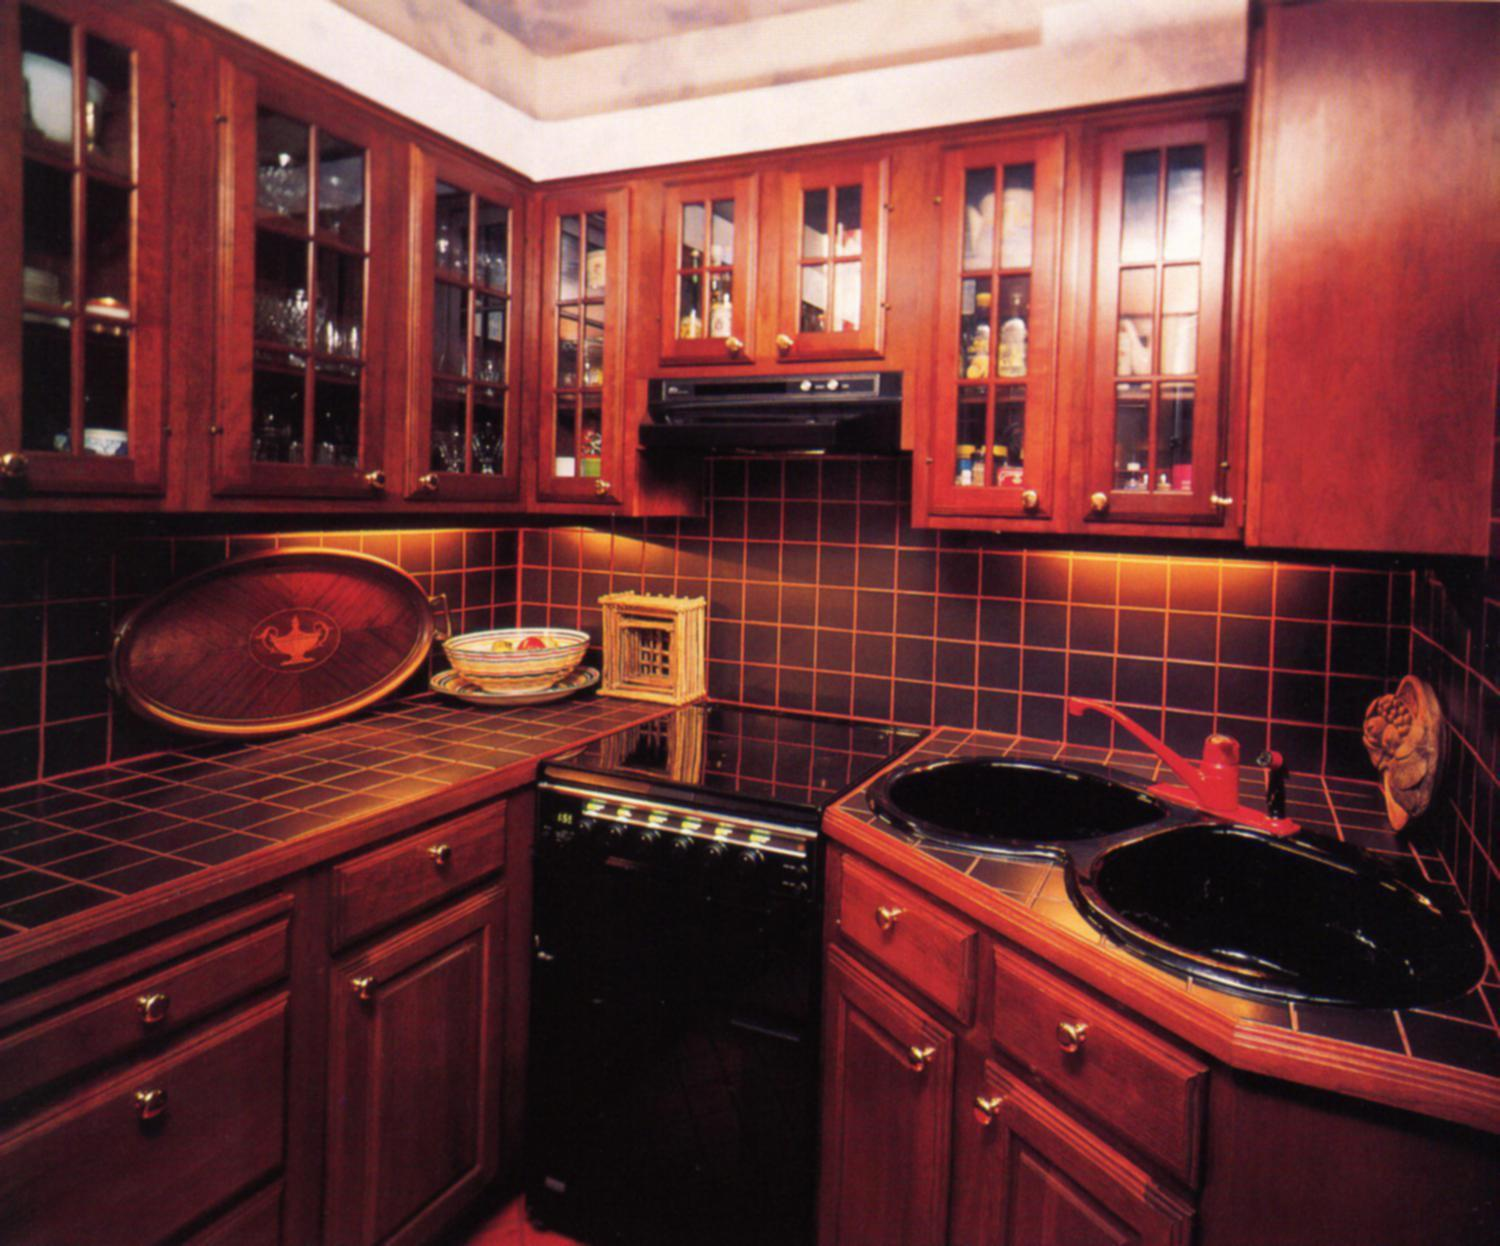Electrodomestico: (539, 765, 824, 1244)
Lavaplatos: (893, 665, 1495, 1030)
